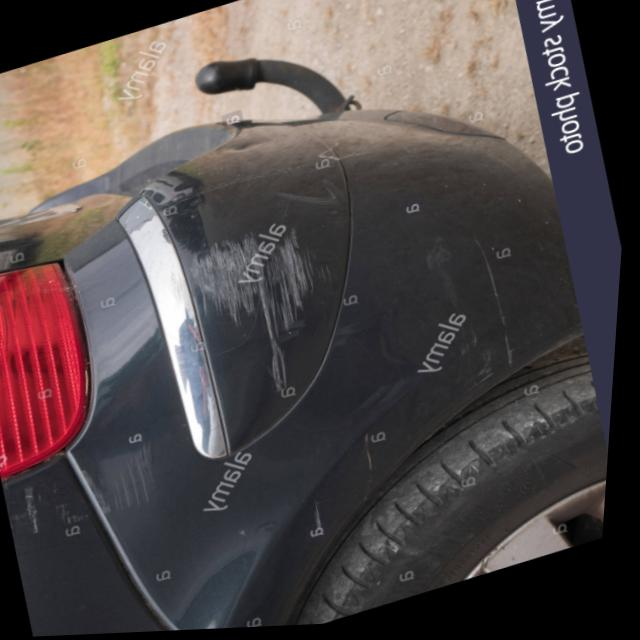Scratch: (158, 197, 373, 451)
